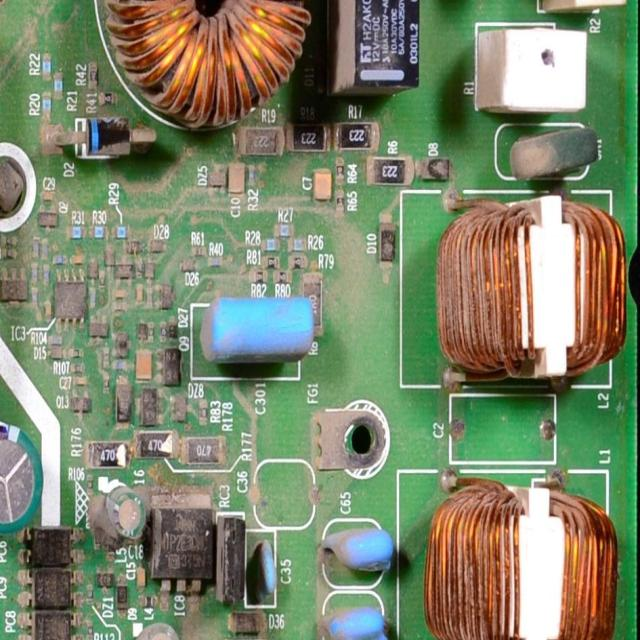IC: (148, 497, 212, 594), (49, 270, 87, 331), (0, 263, 33, 311)
capacitor: (333, 0, 428, 102), (192, 299, 311, 371), (0, 416, 38, 536), (327, 527, 388, 587), (102, 486, 148, 548), (323, 603, 390, 640), (249, 535, 277, 612), (132, 349, 154, 384), (136, 624, 182, 640), (227, 162, 246, 196), (312, 170, 331, 201), (41, 187, 55, 207)
resistor: (234, 130, 289, 163), (328, 121, 380, 154), (289, 122, 335, 156), (367, 157, 412, 190), (180, 436, 223, 468), (90, 442, 130, 468), (137, 431, 175, 457), (288, 252, 311, 270), (41, 90, 53, 123), (249, 270, 271, 288), (286, 235, 311, 250), (0, 231, 19, 250), (198, 398, 210, 428), (271, 222, 293, 238), (273, 268, 295, 284), (54, 70, 65, 100), (262, 235, 278, 254), (42, 51, 52, 80), (66, 346, 84, 360), (0, 246, 17, 260), (263, 255, 280, 269), (68, 361, 85, 374), (228, 637, 264, 640)
transistor: (139, 381, 164, 430), (157, 344, 181, 385), (85, 314, 114, 342), (67, 388, 94, 412)
